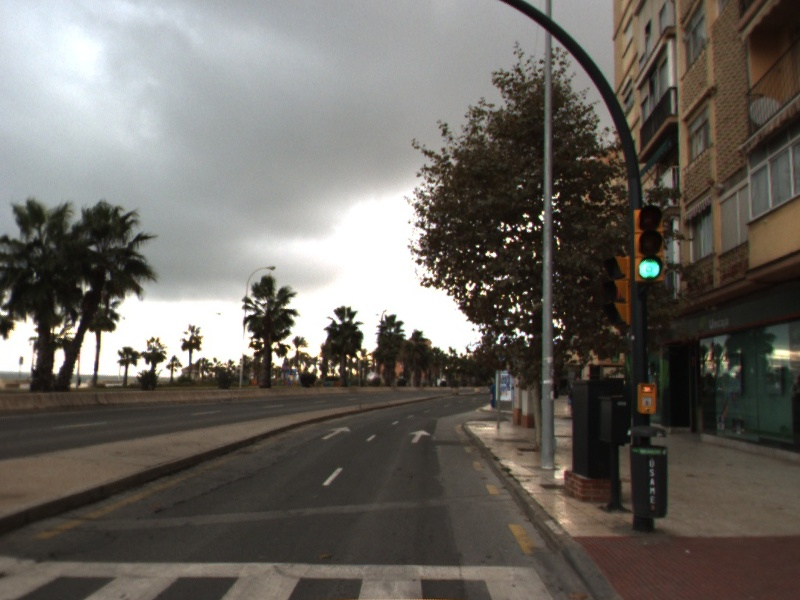STRAIGHT: (320, 425, 353, 441), (406, 429, 432, 444)
